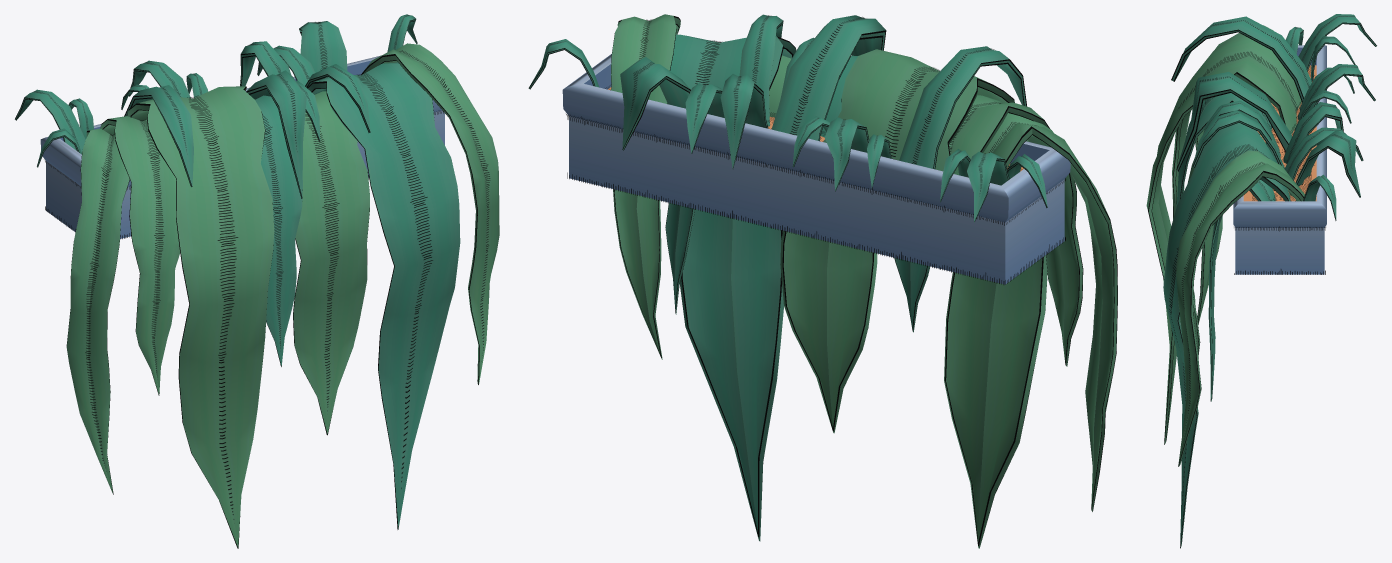
File: pm-flower-pot-large-01.glb
The picture shows the model from 3 angles, left to right: view 1: azimuth 30°, elevation 25°; view 2: azimuth 150°, elevation 25°; view 3: azimuth 270°, elevation 25°; orthographic projection. The views are drawn at different scales.
Parts seen in each view (by area): view 1: FlowerPot_Large_01; view 2: FlowerPot_Large_01; view 3: FlowerPot_Large_01.
Part boxes in pixels (x1,y1,x2,y2): FlowerPot_Large_01: (15, 14, 499, 548); FlowerPot_Large_01: (528, 14, 1117, 548); FlowerPot_Large_01: (1146, 14, 1376, 548).
Size of the model in its own units: 4.05 by 4.32 by 2.07.
3 materials, 3 textured.
